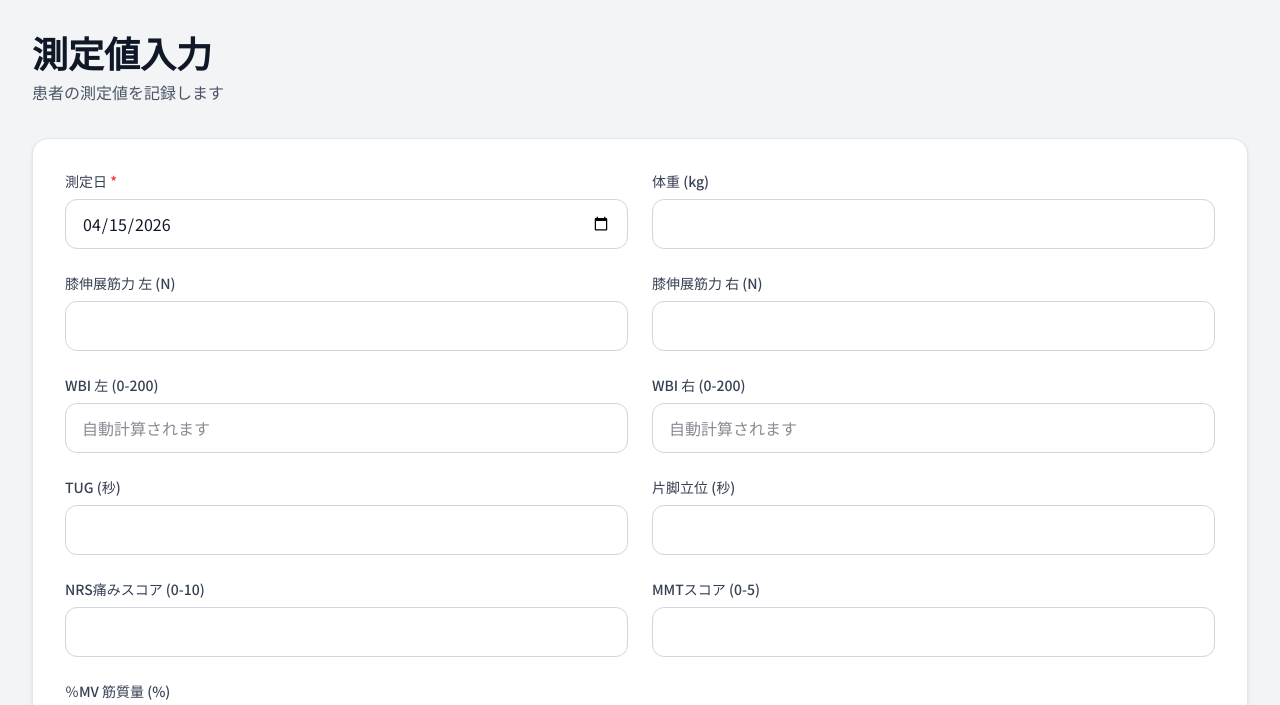
S-05 MeasurementInput › form validation › should validate weight_kg as positive number
Type "0" into the number field labelled "体重 (kg)" at (934, 224), box top-left (652, 199), bottom-right (1215, 249)
(page scrolled)
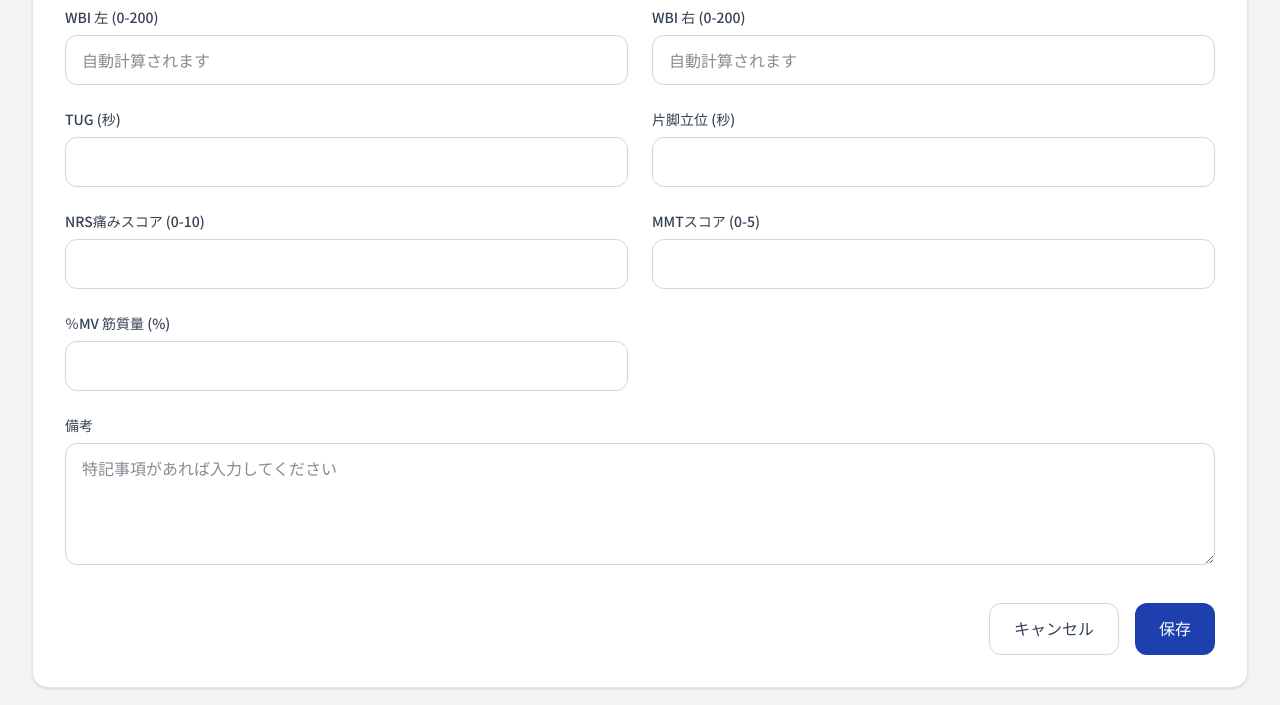
Click the button "保存" at (1175, 629), box top-left (1135, 603), bottom-right (1215, 655)
(page scrolled)
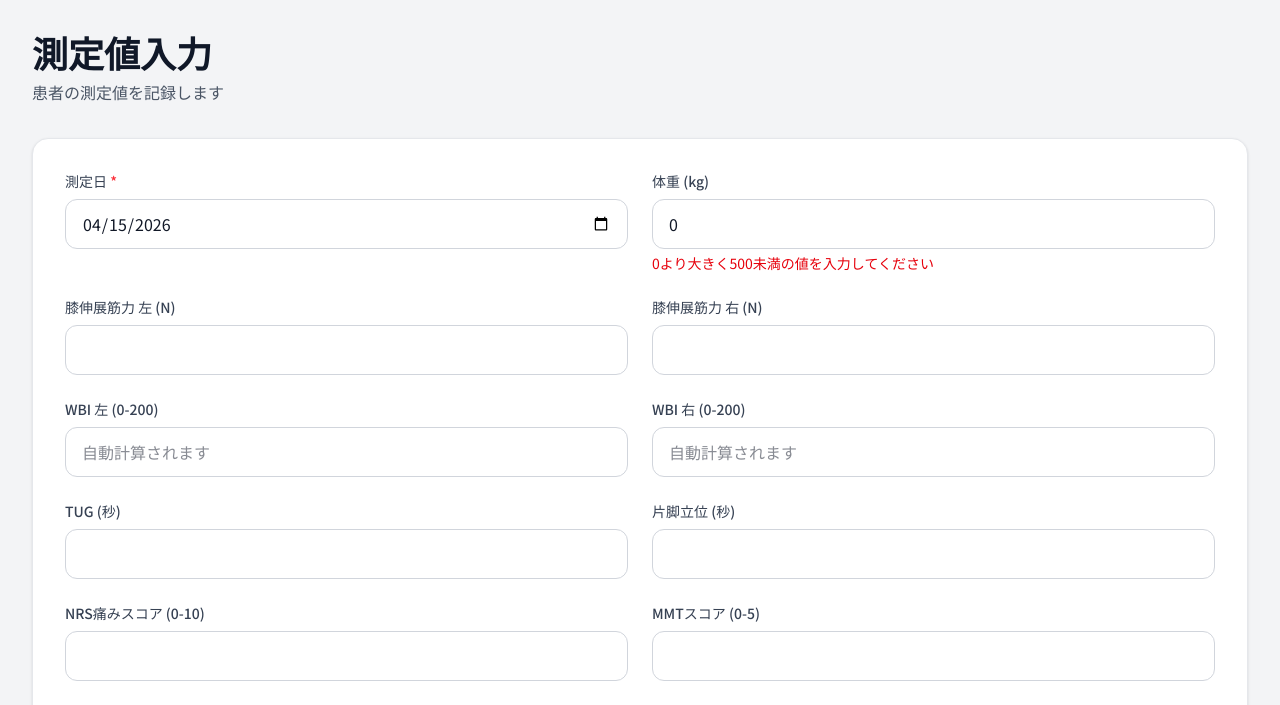
Check: the text "0より大きく500未満の値を入力してください" is shown, box top-left (652, 253), bottom-right (934, 273)
